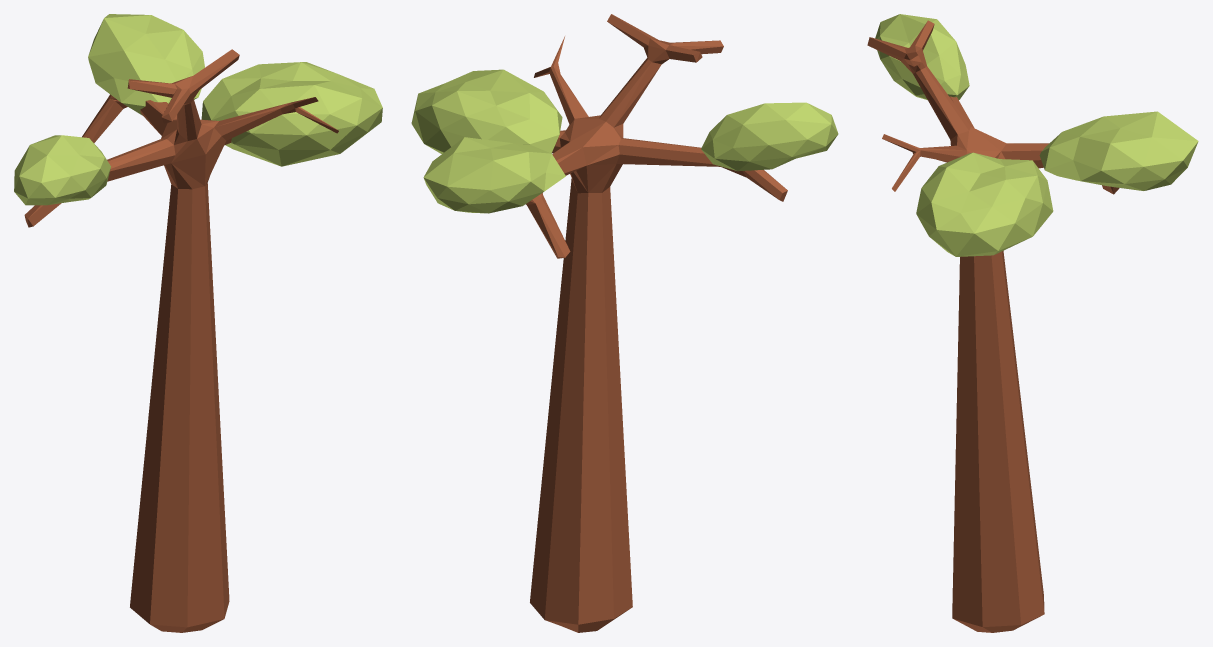
The model's file is MammutTree_1.fbx.
The picture shows the model from 3 angles, left to right: view 1: azimuth 30°, elevation 25°; view 2: azimuth 150°, elevation 25°; view 3: azimuth 270°, elevation 25°; orthographic projection. The views are drawn at different scales.
Parts seen in each view (by area): view 1: MammutTree_mesh; view 2: MammutTree_mesh; view 3: MammutTree_mesh.
Part boxes in pixels (x1,y1,x2,y2): MammutTree_mesh: [14, 14, 382, 632]; MammutTree_mesh: [411, 14, 838, 632]; MammutTree_mesh: [867, 14, 1198, 632].
Size of the model in its own units: 1479 by 2171 by 1131.
